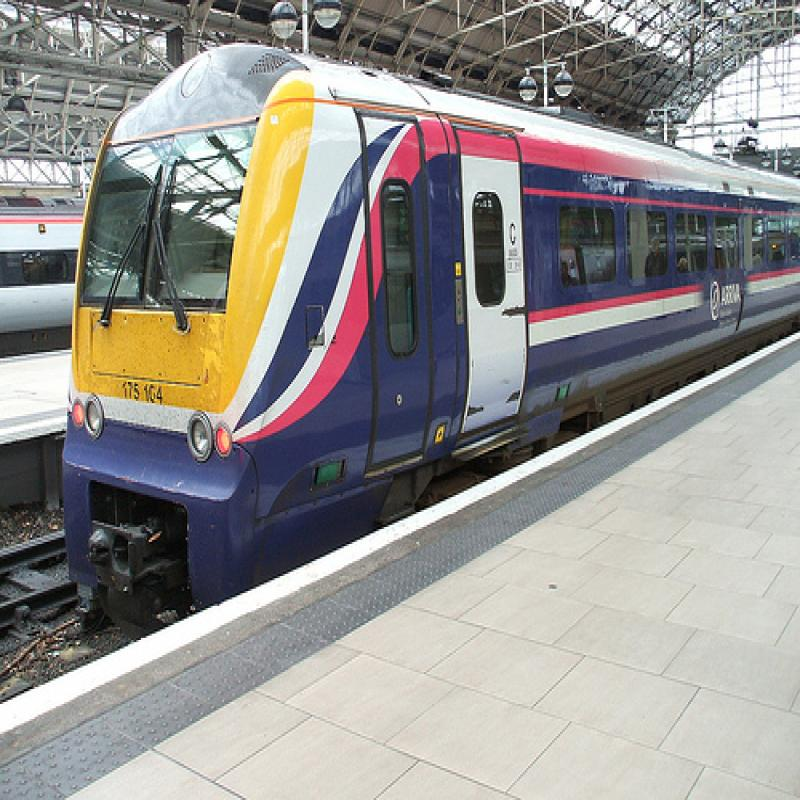train: (62, 44, 799, 630), (1, 189, 86, 338)
